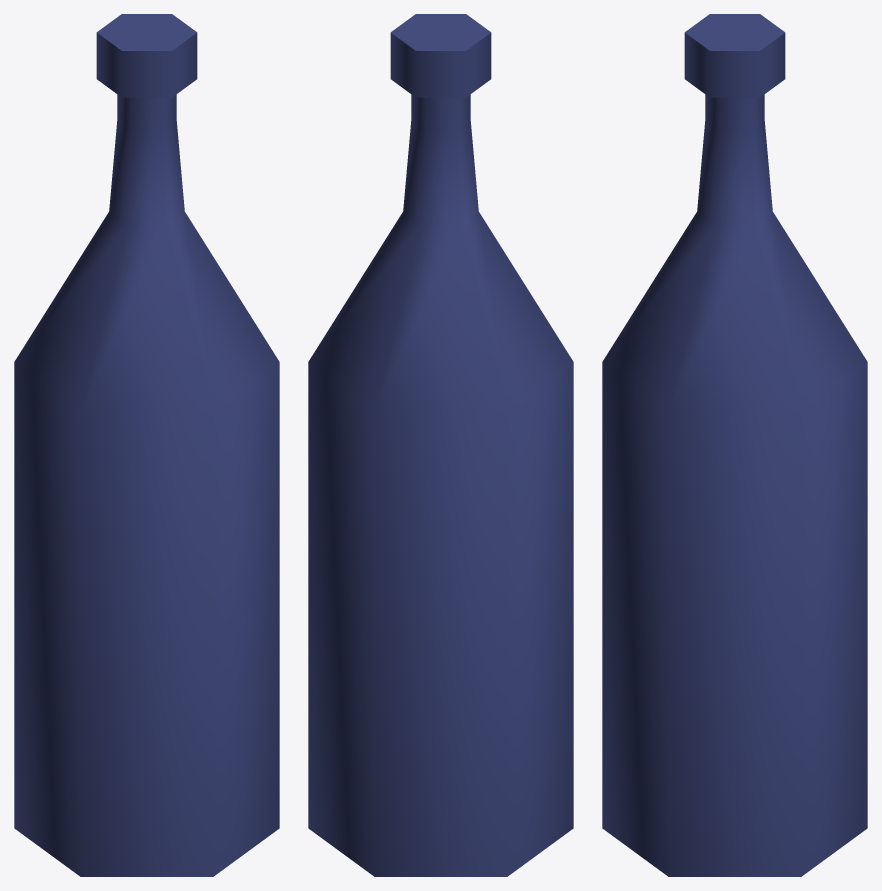
The model's file is Garrafa de Vidro.fbx.
3 views of the same model, side by side, from view 1: azimuth 30°, elevation 25°; view 2: azimuth 150°, elevation 25°; view 3: azimuth 270°, elevation 25° (orthographic).
Parts seen in each view (by area): view 1: Garrafa Vidro; view 2: Garrafa Vidro; view 3: Garrafa Vidro.
Part boxes in pixels (bbox=[...]): Garrafa Vidro: bbox=[14, 14, 279, 876]; Garrafa Vidro: bbox=[308, 14, 573, 876]; Garrafa Vidro: bbox=[602, 14, 867, 876].
Size of the model in its own units: 22.59 by 86.27 by 26.09.
